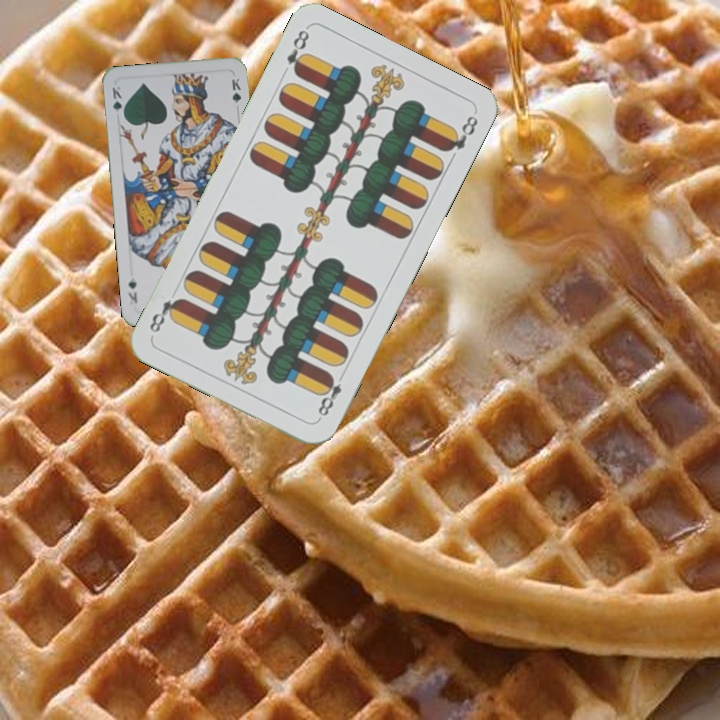E8: (314, 368, 348, 423), (282, 25, 312, 78)
GK: (108, 82, 127, 121)
